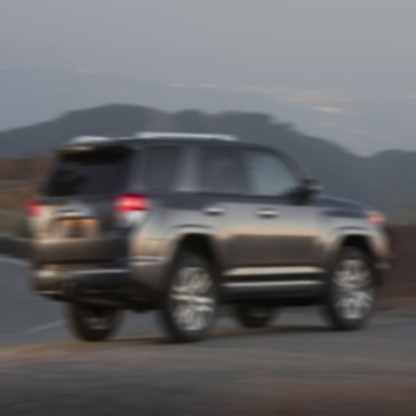Vehicle: (30, 129, 387, 341)
